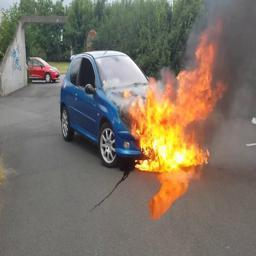fire: (130, 18, 226, 168)
